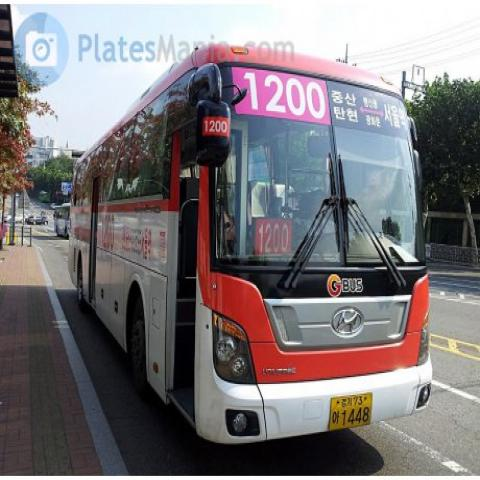LP: (321, 386, 380, 436)
